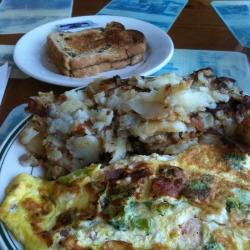bread: (52, 24, 147, 72)
omelette: (9, 160, 248, 249)
